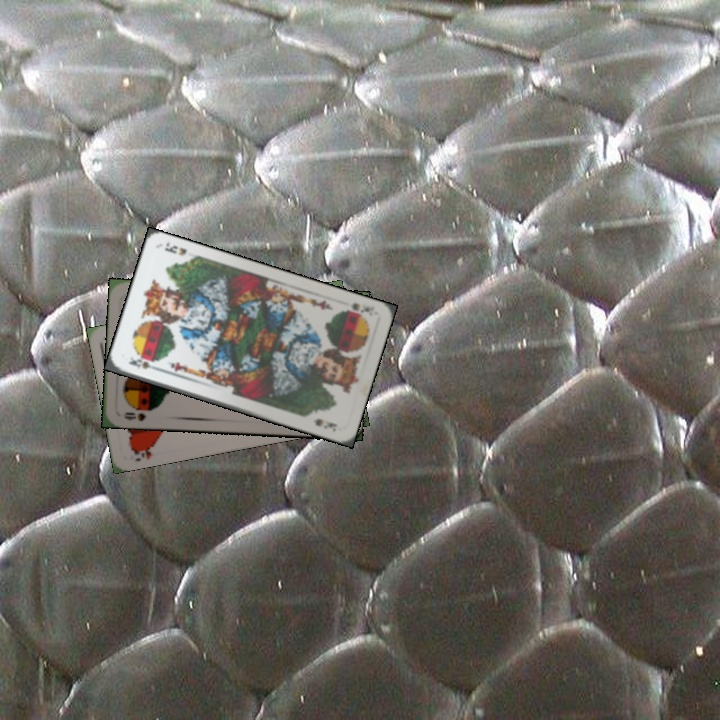HO: (127, 442, 156, 464)
SK: (337, 299, 377, 320), (125, 352, 162, 374)
SO: (119, 408, 149, 424)
